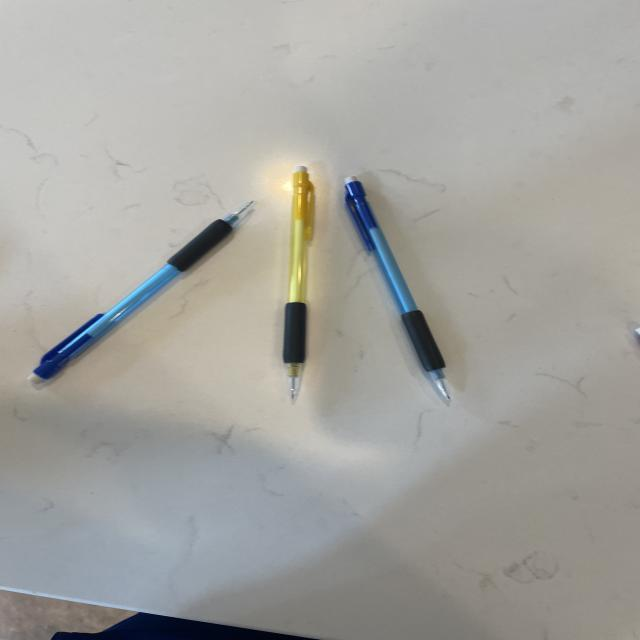mechanical-pencils: (32, 208, 254, 391), (347, 178, 459, 403), (283, 170, 320, 404)
